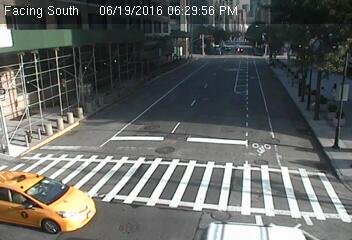neg: (292, 75, 313, 102), (338, 83, 351, 102), (336, 112, 347, 127)
